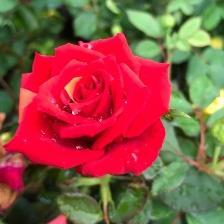rose: (4, 32, 174, 182)
